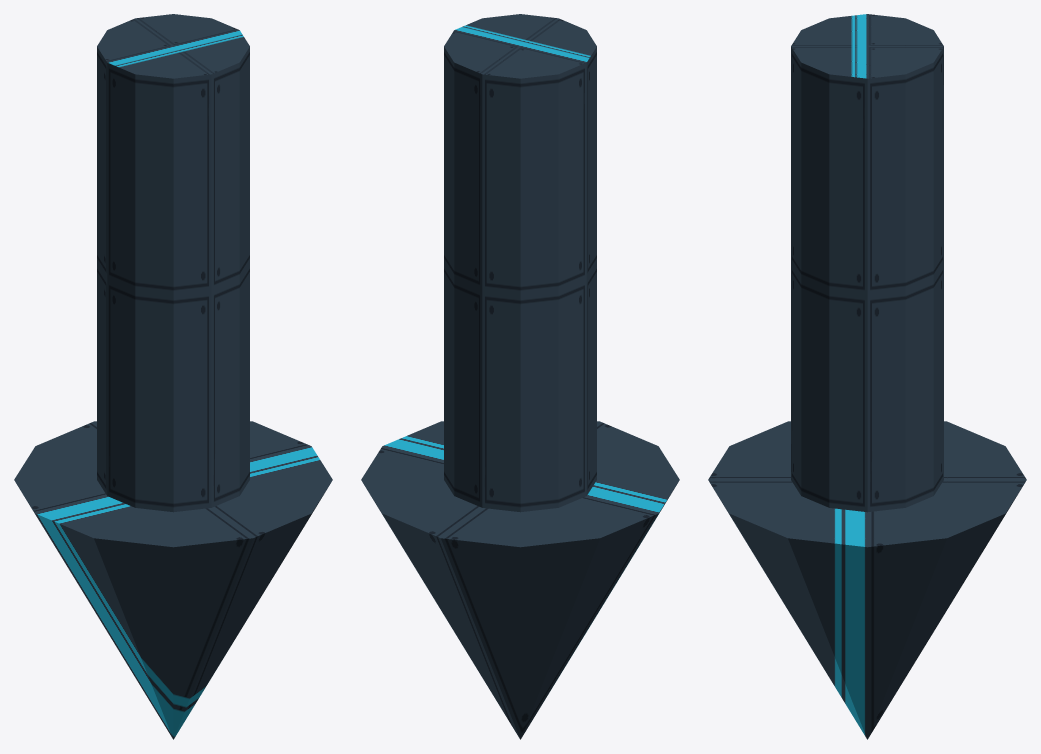
Rendered from Broca.obj.
3 views of the same model, side by side, from view 1: azimuth 30°, elevation 25°; view 2: azimuth 150°, elevation 25°; view 3: azimuth 270°, elevation 25° (orthographic).
Parts seen in each view (by area): view 1: Cylinder, Cone; view 2: Cylinder, Cone; view 3: Cylinder, Cone.
Part boxes in pixels (<box>): Cylinder: <box>97,14,249,512</box>; Cone: <box>14,421,332,739</box>; Cylinder: <box>444,14,596,512</box>; Cone: <box>361,421,679,739</box>; Cylinder: <box>791,14,943,512</box>; Cone: <box>708,421,1026,739</box>.
Size of the model in its own units: 10 by 24 by 10.
Materials: 1 (1 with a texture image).
